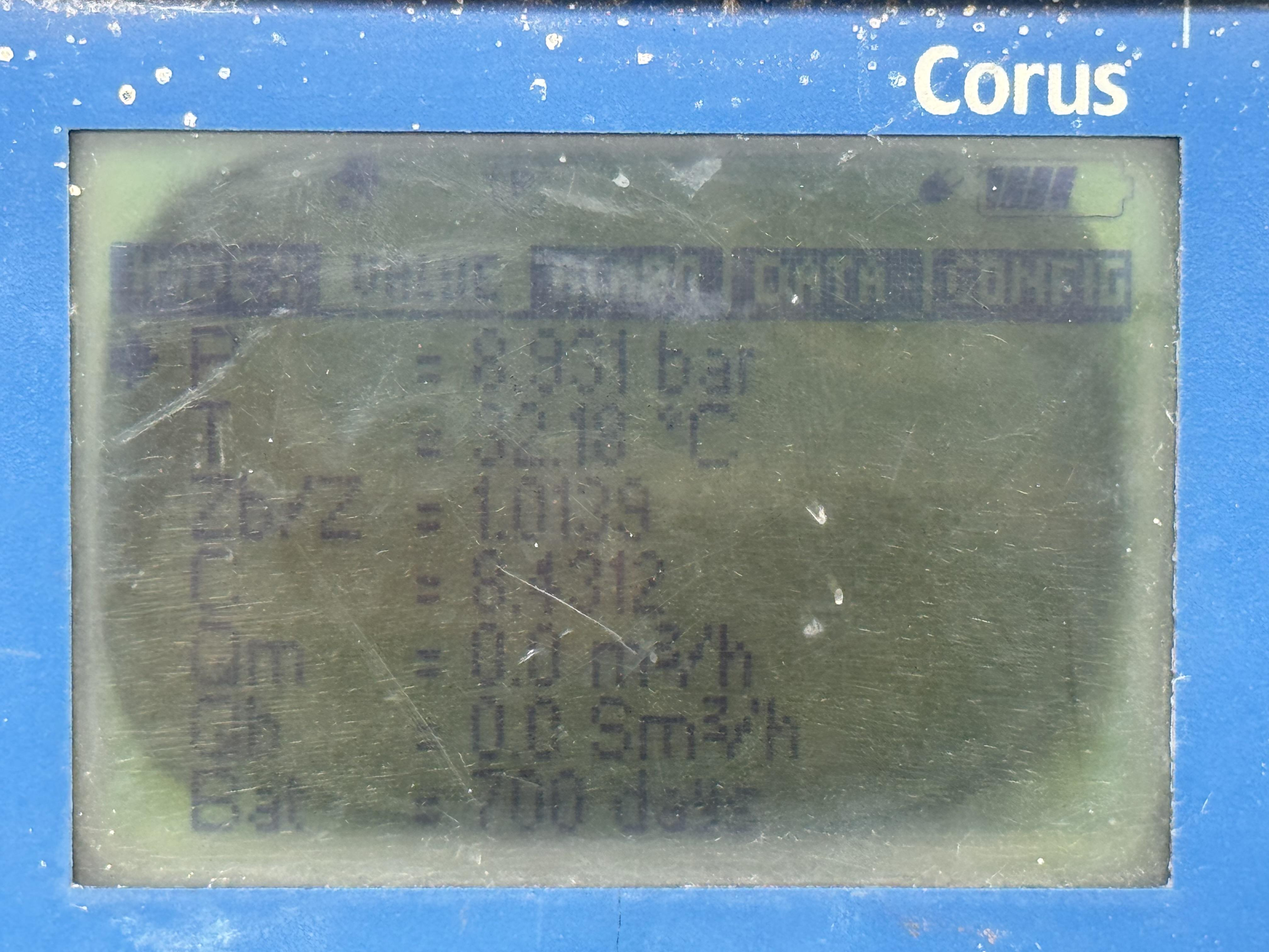digital_screen: (69, 133, 1183, 889)
